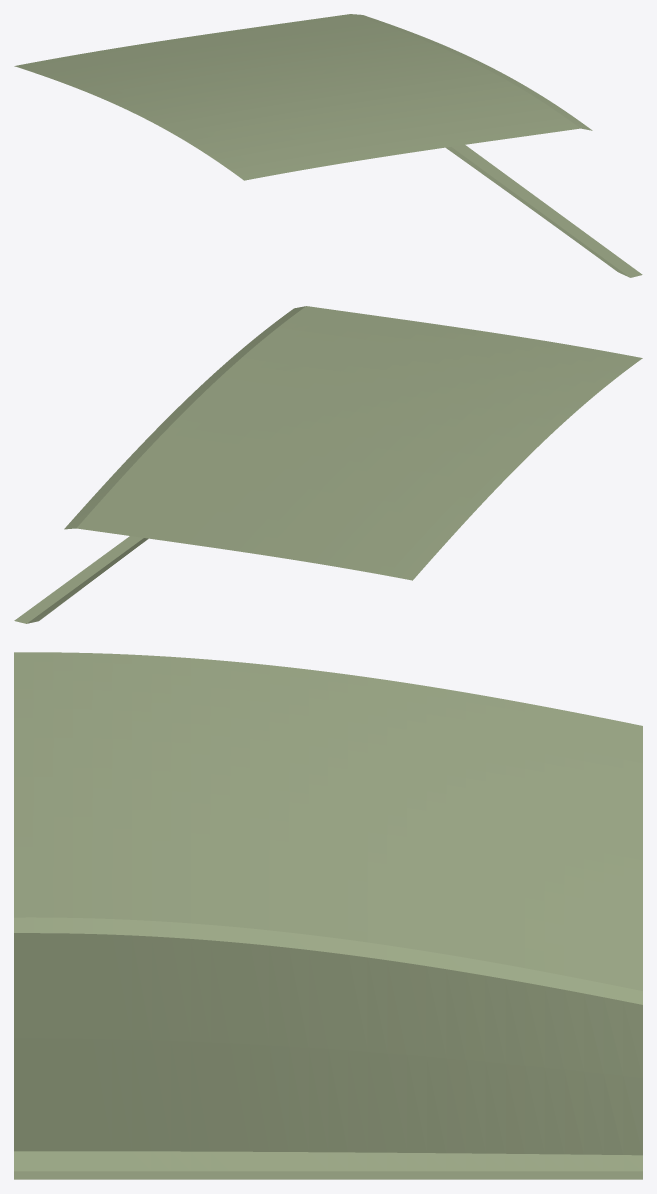
Rendered from valley-7-0.glb.
3 views of the same model, one above another, from view 1: azimuth 30°, elevation 25°; view 2: azimuth 150°, elevation 25°; view 3: azimuth 270°, elevation 25° (orthographic). The views are drawn at different scales.
Visible parts, largest first — view 1: valley-7-0; view 2: valley-7-0; view 3: valley-7-0.
Part boxes in pixels (x1=…): valley-7-0: x1=14, y1=14, x2=642, y2=277; valley-7-0: x1=14, y1=306, x2=642, y2=623; valley-7-0: x1=14, y1=652, x2=642, y2=1179.
Bounding box in the file's own units: 256 × 118 × 256.
